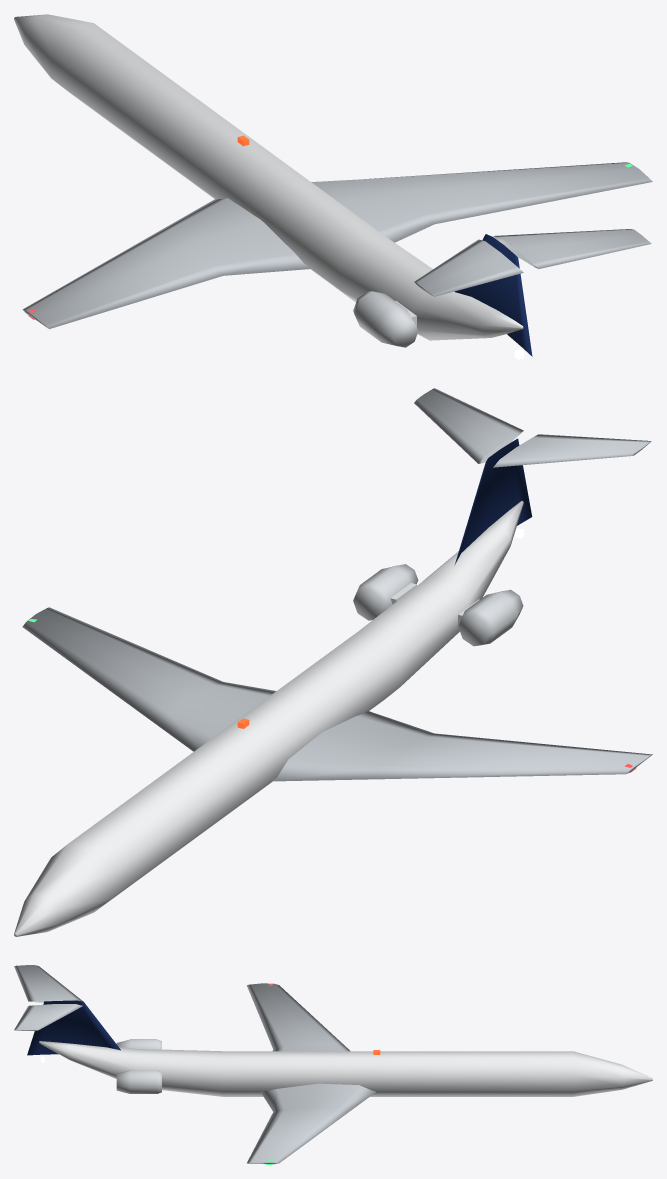
The model's file is fleet_rearjet_lod2.glb.
3 renders of one model, top to bottom at view 1: azimuth 30°, elevation 25°; view 2: azimuth 150°, elevation 25°; view 3: azimuth 270°, elevation 25°, orthographic. The views are drawn at different scales.
Parts seen in each view (by area): view 1: fleet_rearjet_lod2_white, fleet_rearjet_lod2_wing, fleet_rearjet_lod2_blue, fleet_rearjet_lod2_nacelle; view 2: fleet_rearjet_lod2_white, fleet_rearjet_lod2_wing, fleet_rearjet_lod2_nacelle, fleet_rearjet_lod2_blue; view 3: fleet_rearjet_lod2_white, fleet_rearjet_lod2_wing, fleet_rearjet_lod2_blue, fleet_rearjet_lod2_nacelle.
Part boxes in pixels (box(x1,y1,x2,y2)): fleet_rearjet_lod2_white: box(14, 14, 523, 340); fleet_rearjet_lod2_wing: box(22, 162, 652, 329); fleet_rearjet_lod2_blue: box(454, 234, 532, 356); fleet_rearjet_lod2_nacelle: box(353, 291, 418, 347); fleet_rearjet_lod2_white: box(14, 501, 523, 936); fleet_rearjet_lod2_wing: box(22, 388, 652, 781); fleet_rearjet_lod2_nacelle: box(353, 564, 523, 646); fleet_rearjet_lod2_blue: box(454, 438, 532, 565); fleet_rearjet_lod2_white: box(39, 1041, 652, 1096); fleet_rearjet_lod2_wing: box(14, 965, 376, 1164); fleet_rearjet_lod2_blue: box(27, 1000, 120, 1055); fleet_rearjet_lod2_nacelle: box(116, 1039, 161, 1093).
Bounding box in the file's own units: 24.9 × 6.25 × 37.69.
